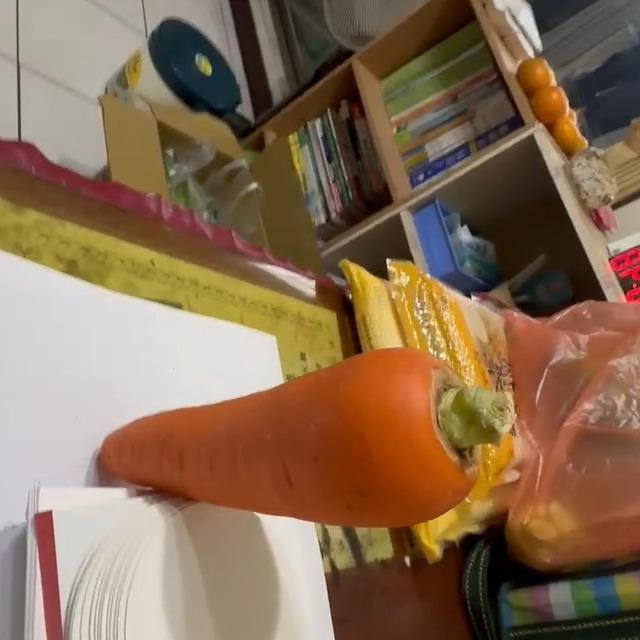carrot: (100, 348, 515, 530)
